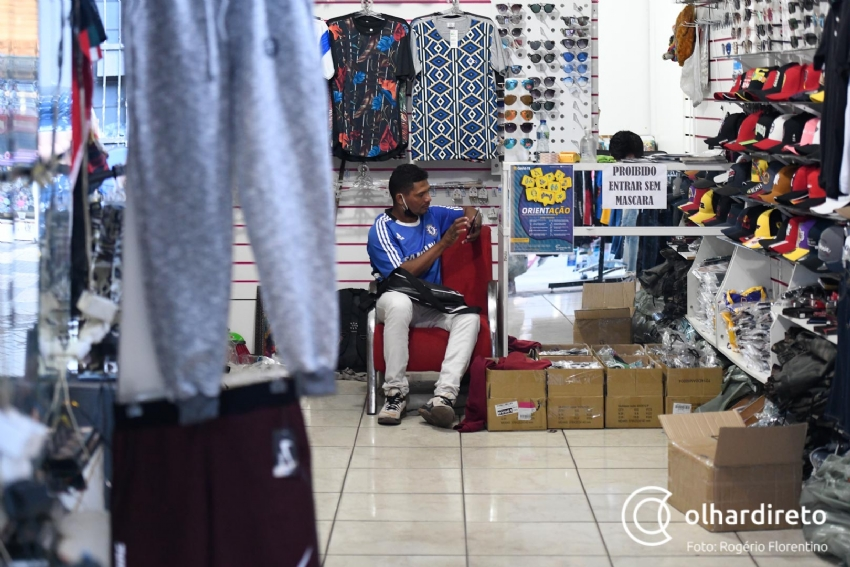mask_weared_incorrect: (391, 176, 432, 223)
